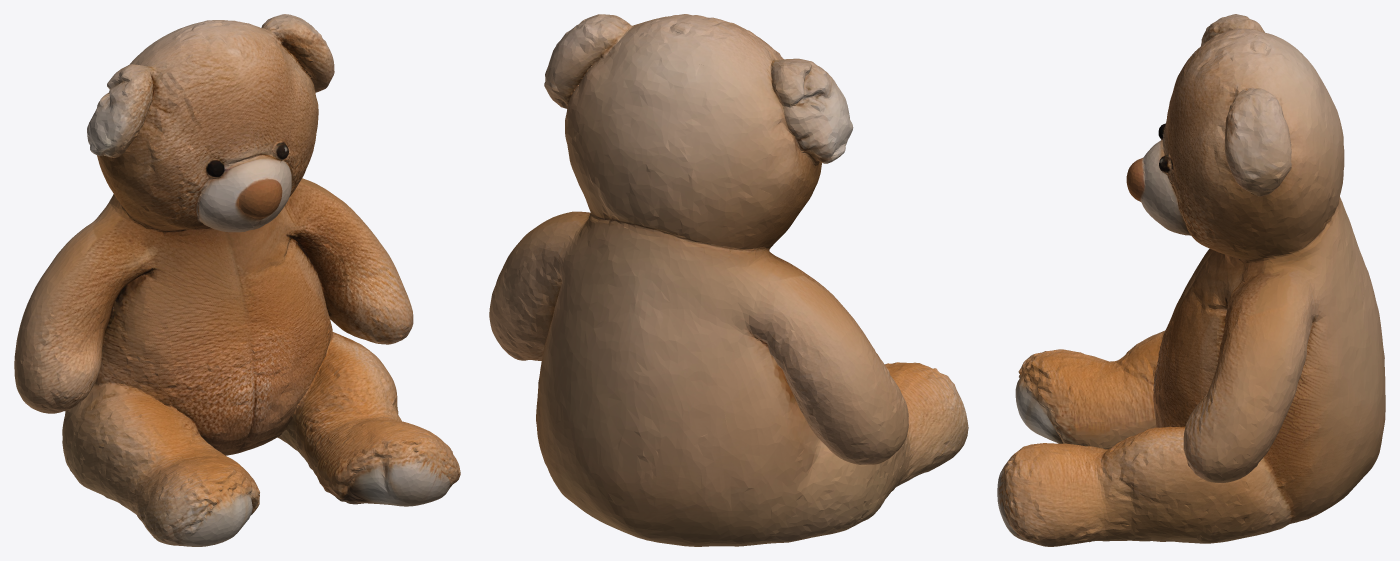
3 renders of one model, left to right at view 1: azimuth 30°, elevation 25°; view 2: azimuth 150°, elevation 25°; view 3: azimuth 270°, elevation 25°, orthographic. The views are drawn at different scales.
Visible parts, largest first — view 1: textured_mesh; view 2: textured_mesh; view 3: textured_mesh.
Part boxes in pixels (bbox=[...]): textured_mesh: bbox=[14, 14, 460, 546]; textured_mesh: bbox=[489, 14, 968, 546]; textured_mesh: bbox=[997, 14, 1385, 546].
Bounding box in the file's own units: 1.83 × 1.99 × 1.59.
Materials: 1 (1 with a texture image).
